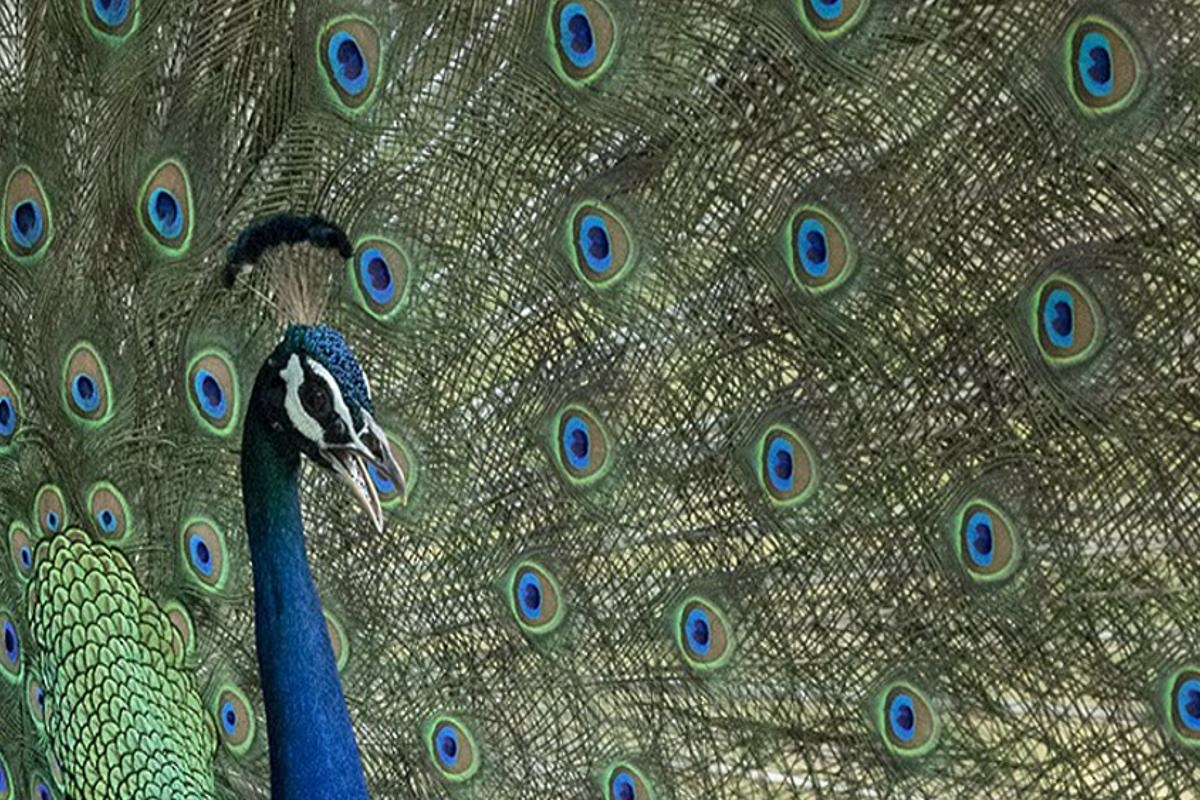peacock: (18, 56, 1025, 800)
